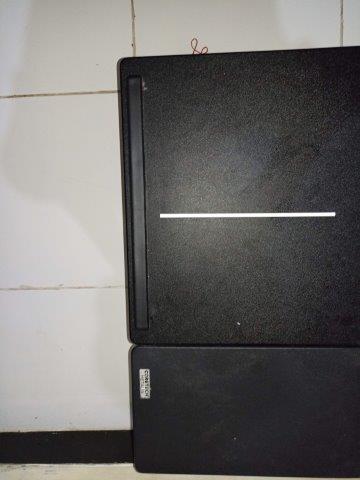karet: (190, 37, 209, 54)
sedotan: (160, 213, 336, 217)
